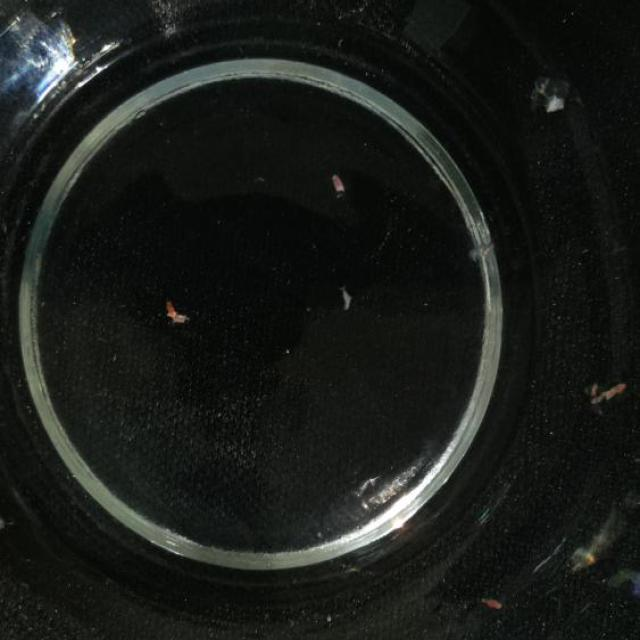fiber: (586, 369, 631, 418), (480, 588, 523, 622), (156, 297, 194, 325), (325, 164, 350, 202), (338, 280, 358, 314), (0, 506, 8, 532)
